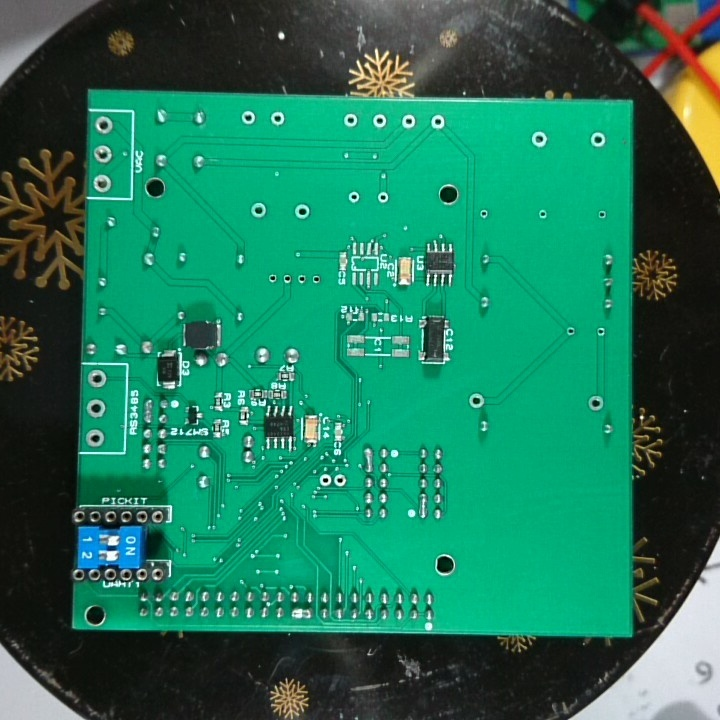F: (85, 394, 109, 421), (85, 422, 107, 449), (86, 365, 110, 389), (93, 113, 116, 137), (90, 170, 114, 193), (586, 390, 607, 416), (248, 198, 271, 220), (92, 142, 114, 165), (427, 111, 449, 133), (340, 109, 362, 131), (529, 127, 551, 148), (466, 390, 489, 410), (399, 110, 419, 131), (238, 107, 258, 128), (292, 202, 315, 220), (589, 130, 609, 150), (268, 108, 288, 127), (332, 469, 349, 490), (345, 186, 362, 206), (371, 111, 389, 129), (308, 269, 323, 290), (475, 205, 492, 222), (293, 270, 309, 288), (563, 322, 579, 339), (375, 189, 390, 206), (318, 472, 332, 490), (595, 205, 610, 221), (536, 204, 549, 221), (595, 322, 606, 340), (280, 271, 293, 286), (266, 271, 279, 285)
P: (288, 603, 315, 621), (140, 395, 156, 425), (415, 490, 429, 523), (362, 446, 375, 474)
